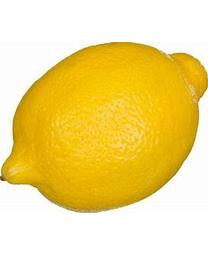lemon: (1, 42, 207, 213)
